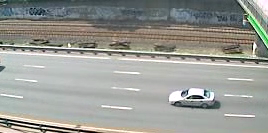car: (166, 86, 218, 111)
